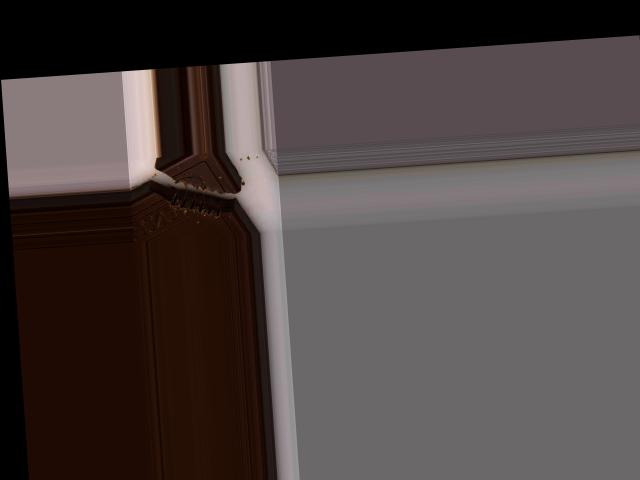chocolate: (128, 149, 261, 240)
